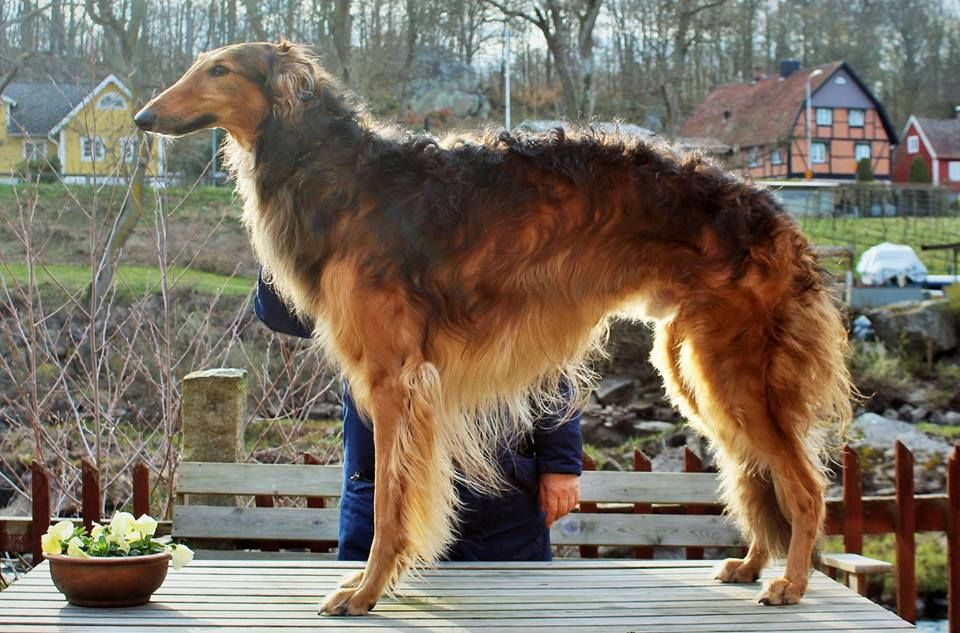borzoi: (128, 35, 876, 618)
